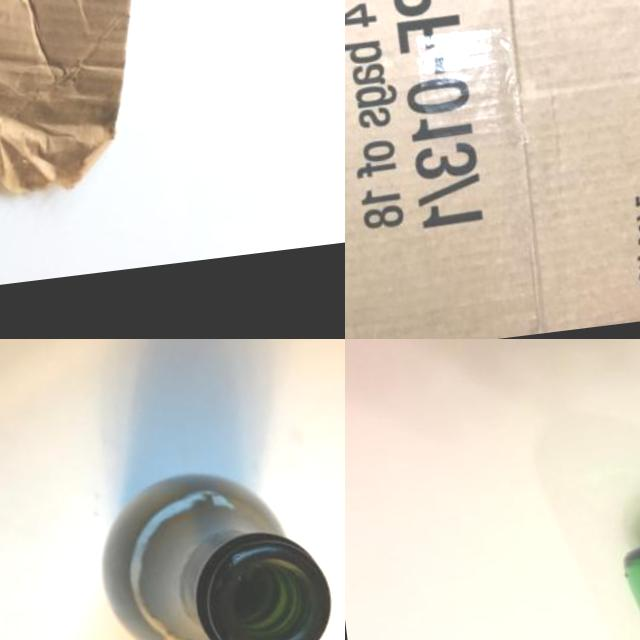garrafa de vidro: (184, 521, 338, 640)
papelão: (345, 0, 640, 339), (0, 0, 163, 208)
